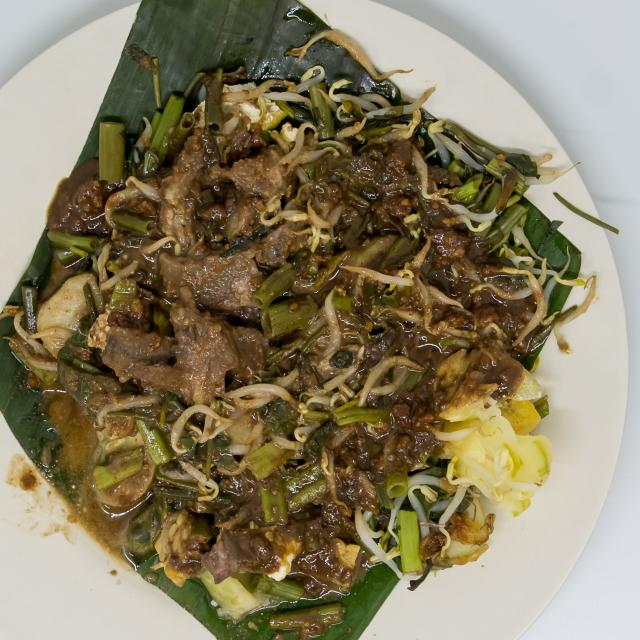Rujak-Cingur: (15, 51, 553, 590)
